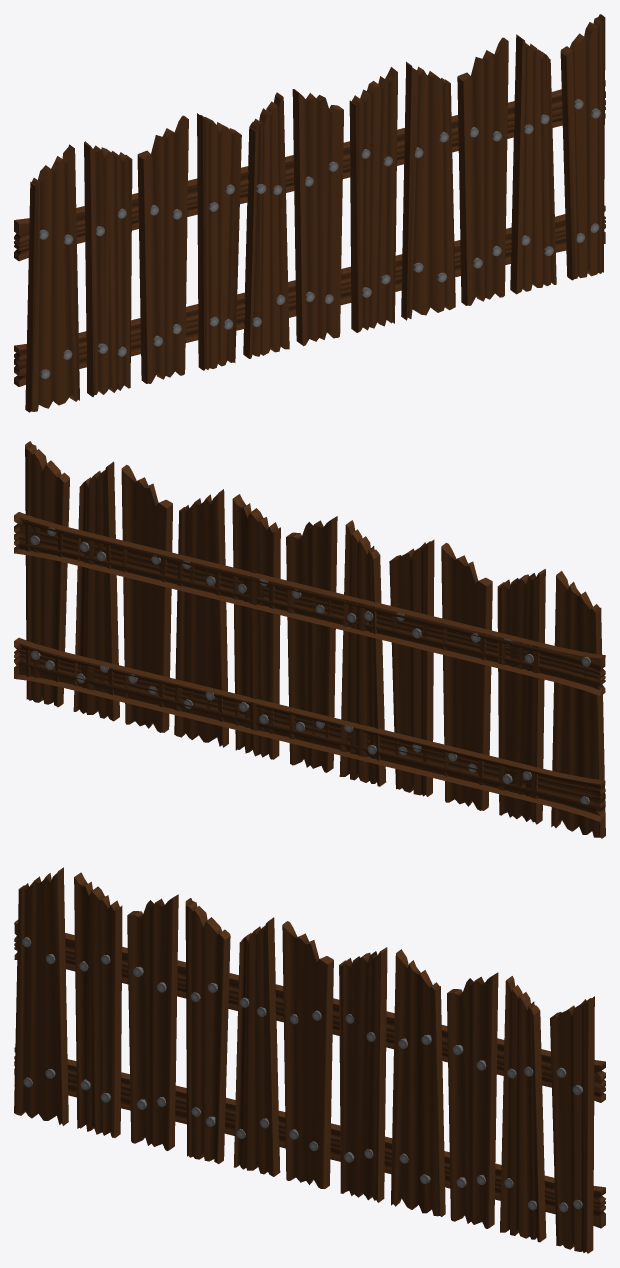
The model's file is Fence 1.fbx.
3 views of the same model, one above another, from view 1: azimuth 30°, elevation 25°; view 2: azimuth 150°, elevation 25°; view 3: azimuth 330°, elevation 25° (orthographic).
Visible parts, largest first — view 1: polySurface296; view 2: polySurface296; view 3: polySurface296.
Boxes of the visible parts, left/top/right/bottom form: polySurface296: left=14, top=14, right=605, bottom=412; polySurface296: left=14, top=441, right=605, bottom=838; polySurface296: left=14, top=867, right=605, bottom=1253.
Bounding box in the file's own units: 7.59 × 3.15 × 0.2778.
